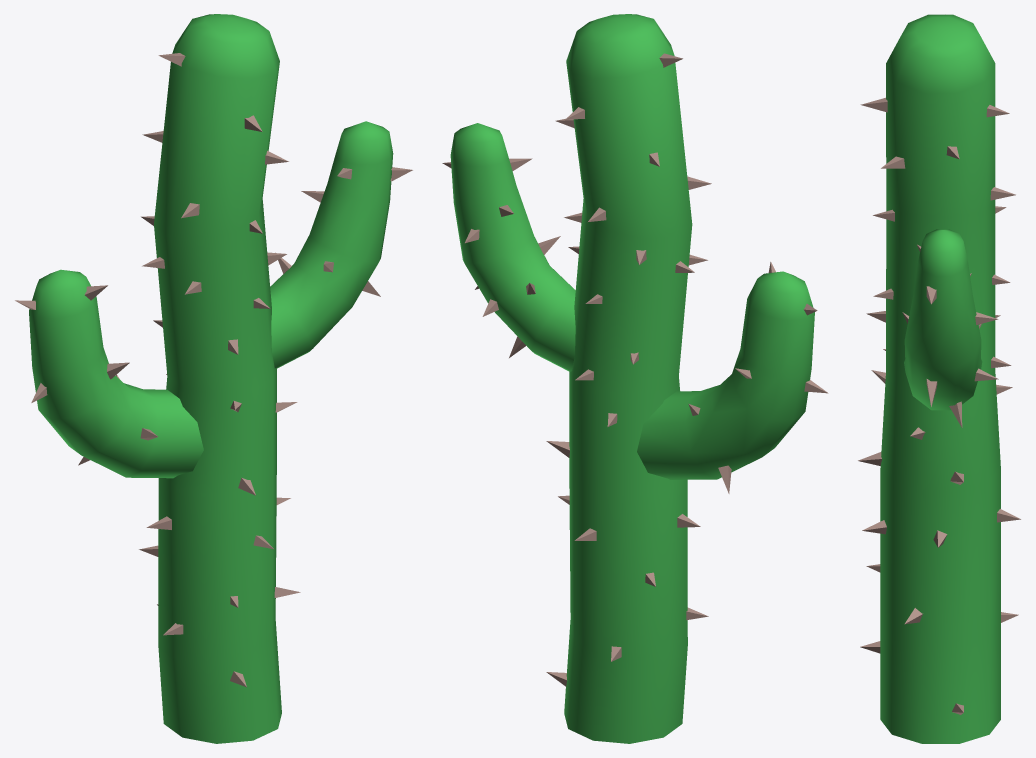
The model's file is Cactus1.fbx.
3 renders of one model, left to right at view 1: azimuth 30°, elevation 25°; view 2: azimuth 150°, elevation 25°; view 3: azimuth 270°, elevation 25°, orthographic.
Parts seen in each view (by area): view 1: Cactus1.001; view 2: Cactus1.001; view 3: Cactus1.001.
Boxes of the visible parts, x1=… form: Cactus1.001: x1=15, y1=14, x2=412, y2=743; Cactus1.001: x1=442, y1=14, x2=828, y2=743; Cactus1.001: x1=858, y1=14, x2=1020, y2=743.
Bounding box in the file's own units: 0.419 × 1.14 × 1.96.
